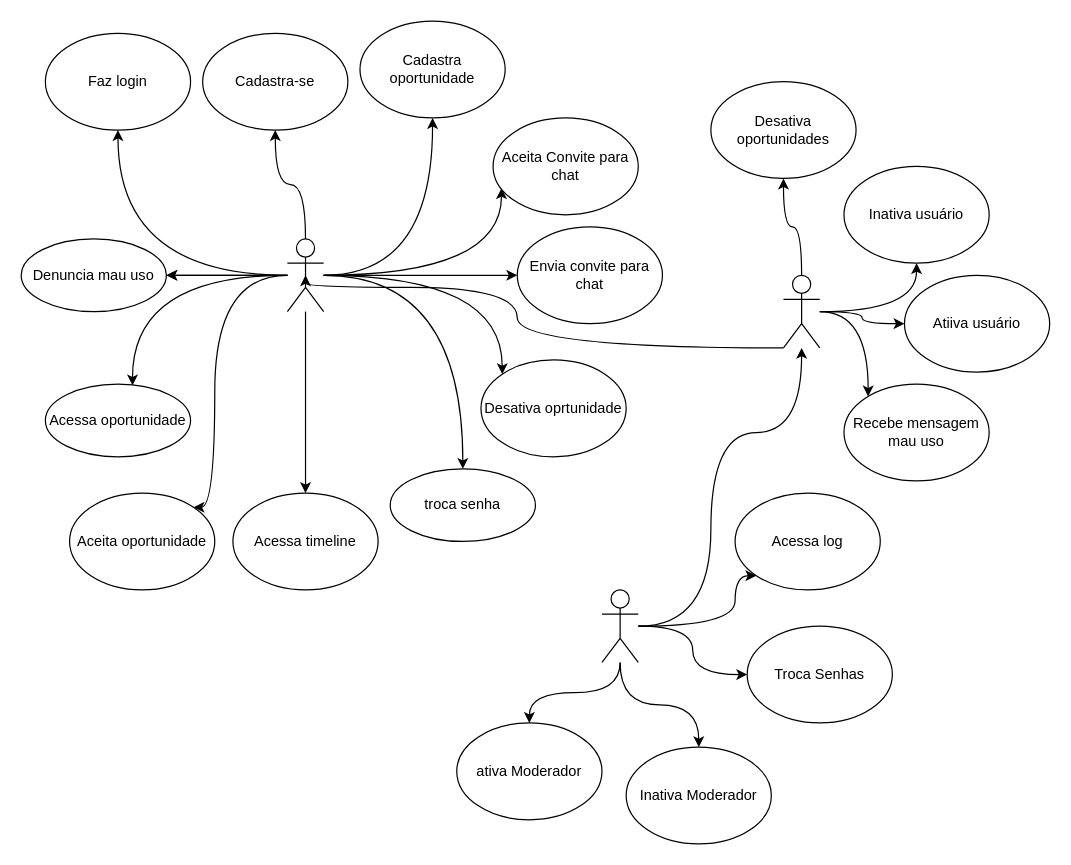
The diagram is 1071 pixels wide and 865 high, and some of its shapes have lost their labels. Here are the shapes that lost their labels. From the top down, the centre of each, then its label:
At point (305, 275): "Usuário".
At point (801, 311): "Moderador".
At point (619, 625): "Administrador".
